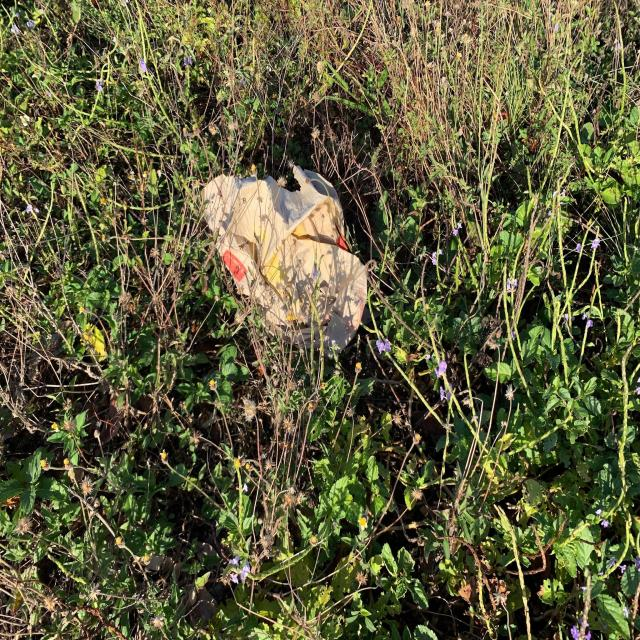litter: (195, 162, 367, 359)
